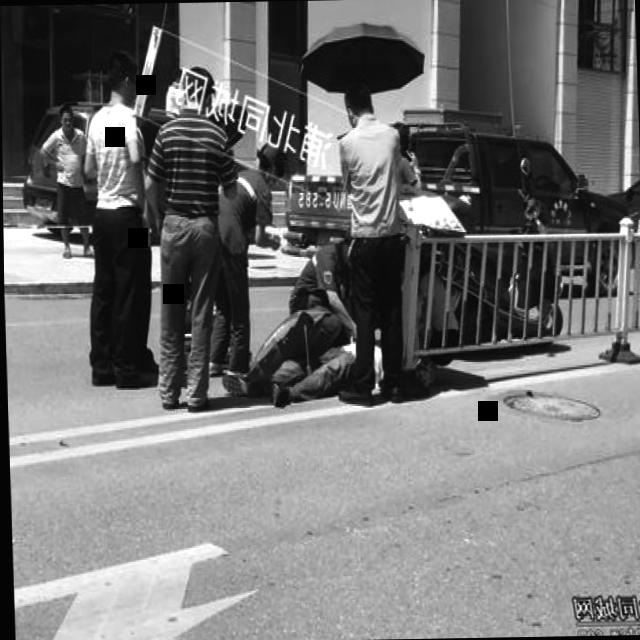Fall-Detected: (216, 303, 381, 417)
